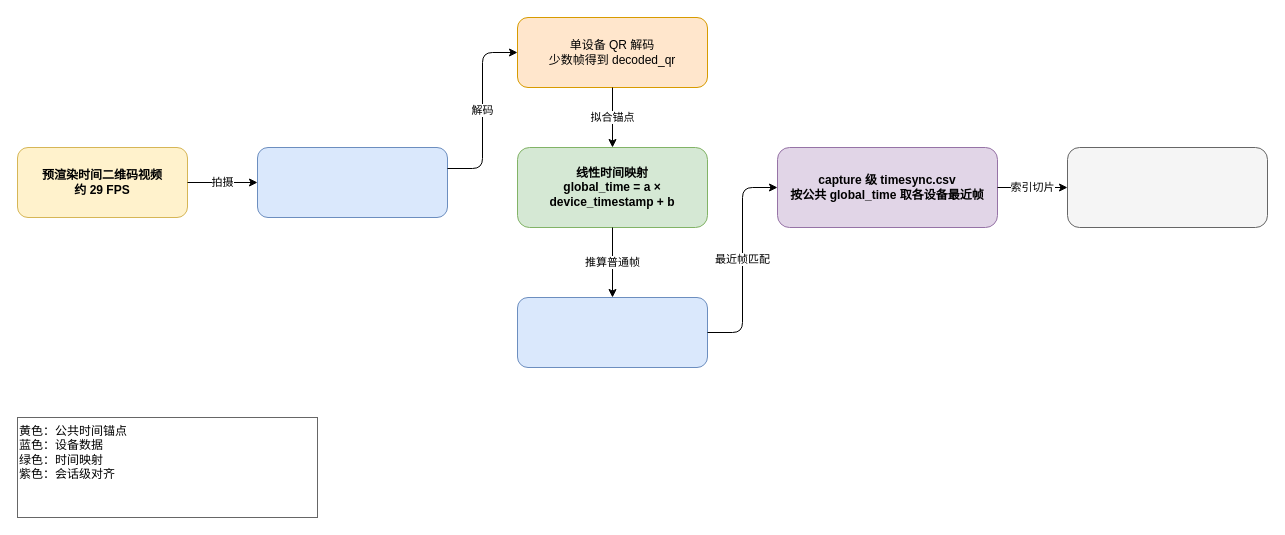
The diagram is 1285 pixels wide and 535 high, and some of its shapes have lost their labels. The centre of each missing label's shape, as x and y in pixels:
"Aria / GoPro 各自拍摄 同一二维码公共时钟" goes at point (352, 182).
"takes.json timesync_start_idx / timesync_end_idx 从 capture 表切片" goes at point (1167, 187).
"每台设备的 timesync.csv 所有帧都有 global_time" goes at point (612, 332).
